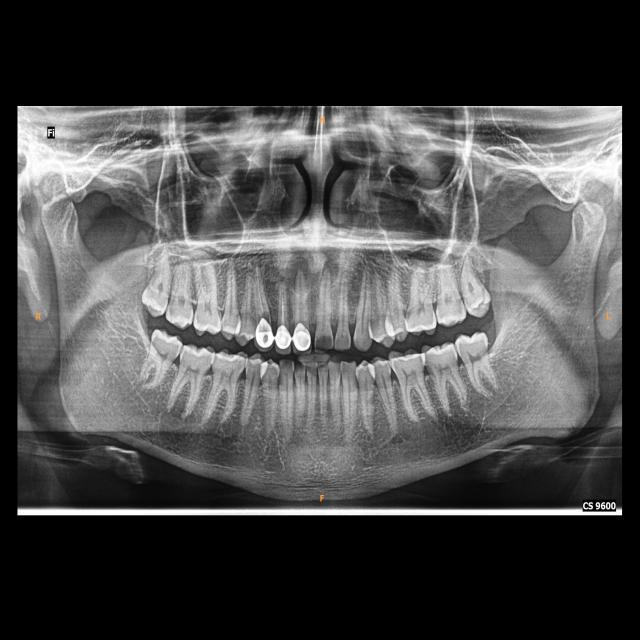dentin-curugu: (315, 329, 334, 352)
kanal-tedavisi: (255, 279, 268, 315), (278, 286, 288, 324)
kaplama: (291, 321, 314, 352), (256, 318, 273, 347), (274, 325, 292, 350)
